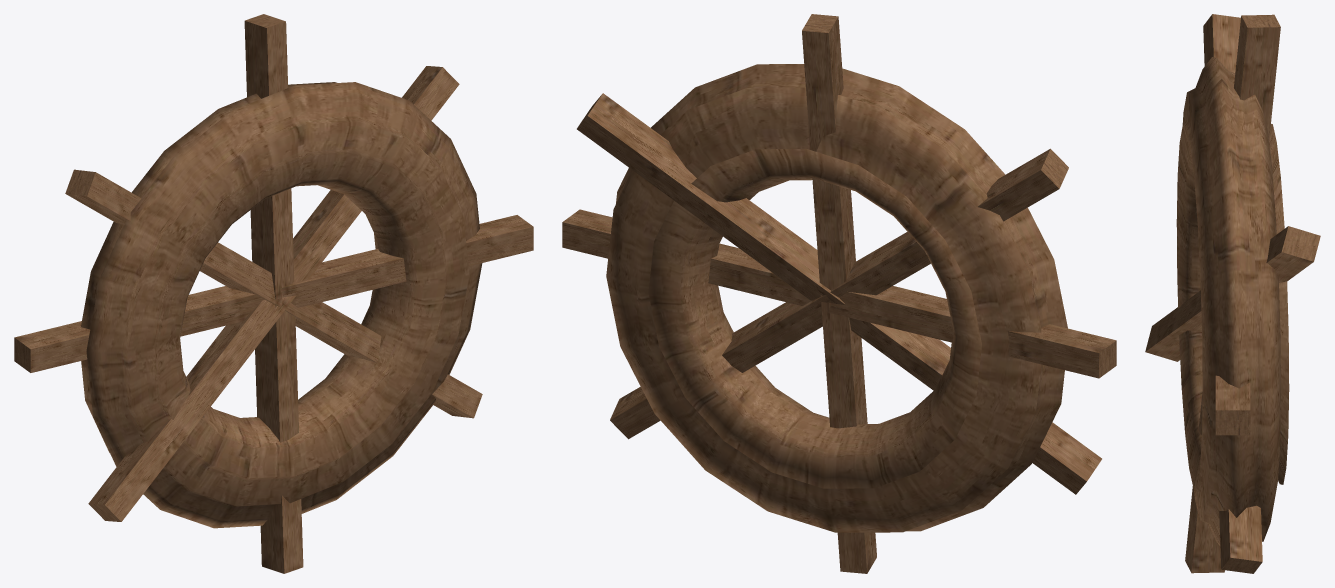
Rendered from wallart.fbx.
3 views of the same model, side by side, from view 1: azimuth 30°, elevation 25°; view 2: azimuth 150°, elevation 25°; view 3: azimuth 270°, elevation 25° (orthographic). The views are drawn at different scales.
Visible parts, largest first — view 1: pTorus1, pCube9, pCube7, pCube6, pCube8; view 2: pTorus1, pCube9, pCube7, pCube6, pCube8; view 3: pTorus1, pCube7, pCube8, pCube9, pCube6.
Boxes of the visible parts, x1,y1,x2,y2 form: pTorus1: (81, 82, 482, 528); pCube9: (88, 66, 459, 521); pCube7: (244, 14, 303, 573); pCube6: (14, 215, 533, 372); pCube8: (65, 169, 482, 418); pTorus1: (606, 64, 1067, 532); pCube9: (577, 93, 1101, 494); pCube7: (802, 14, 876, 573); pCube6: (562, 209, 1116, 378); pCube8: (610, 148, 1068, 439); pTorus1: (1176, 57, 1289, 546); pCube7: (1185, 14, 1280, 573); pCube8: (1203, 14, 1262, 573); pCube9: (1145, 226, 1320, 361); pCube6: (1215, 375, 1250, 435).
Size of the model in its own units: 1322 by 1325 by 381.
Materials: 1 (1 with a texture image).
